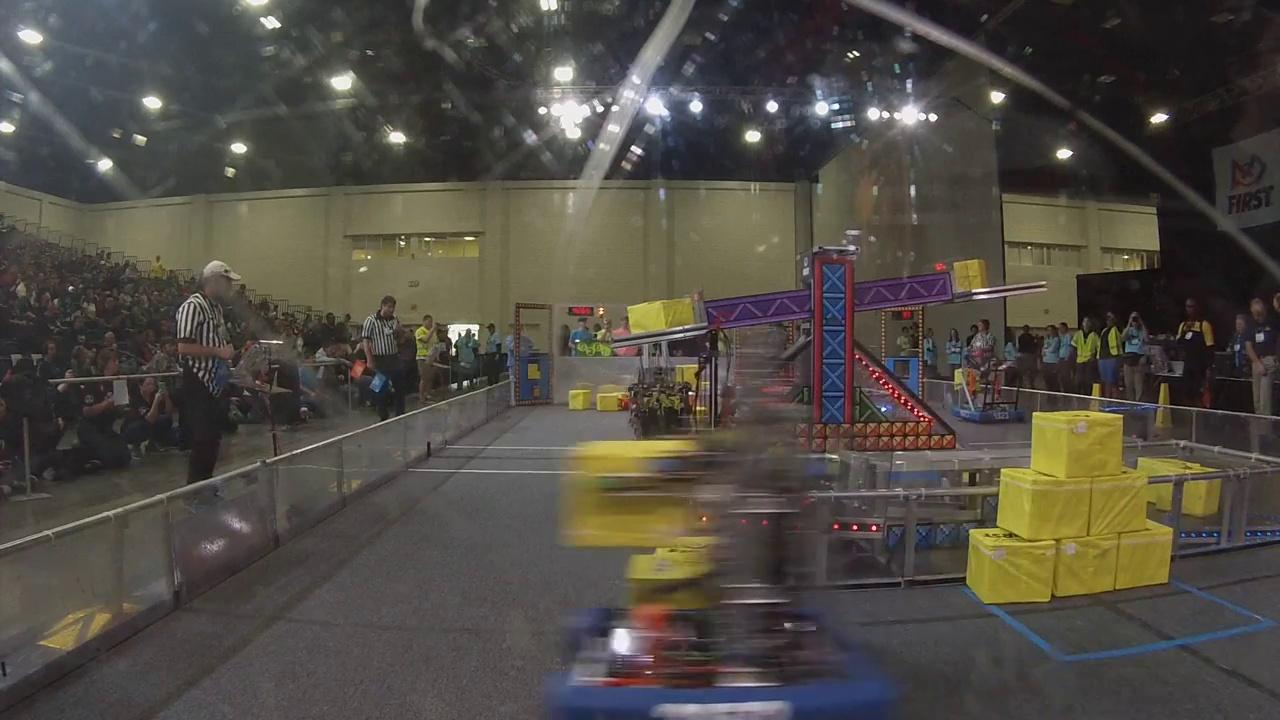robot: (543, 392, 895, 720), (617, 362, 714, 482), (950, 352, 1022, 423)
